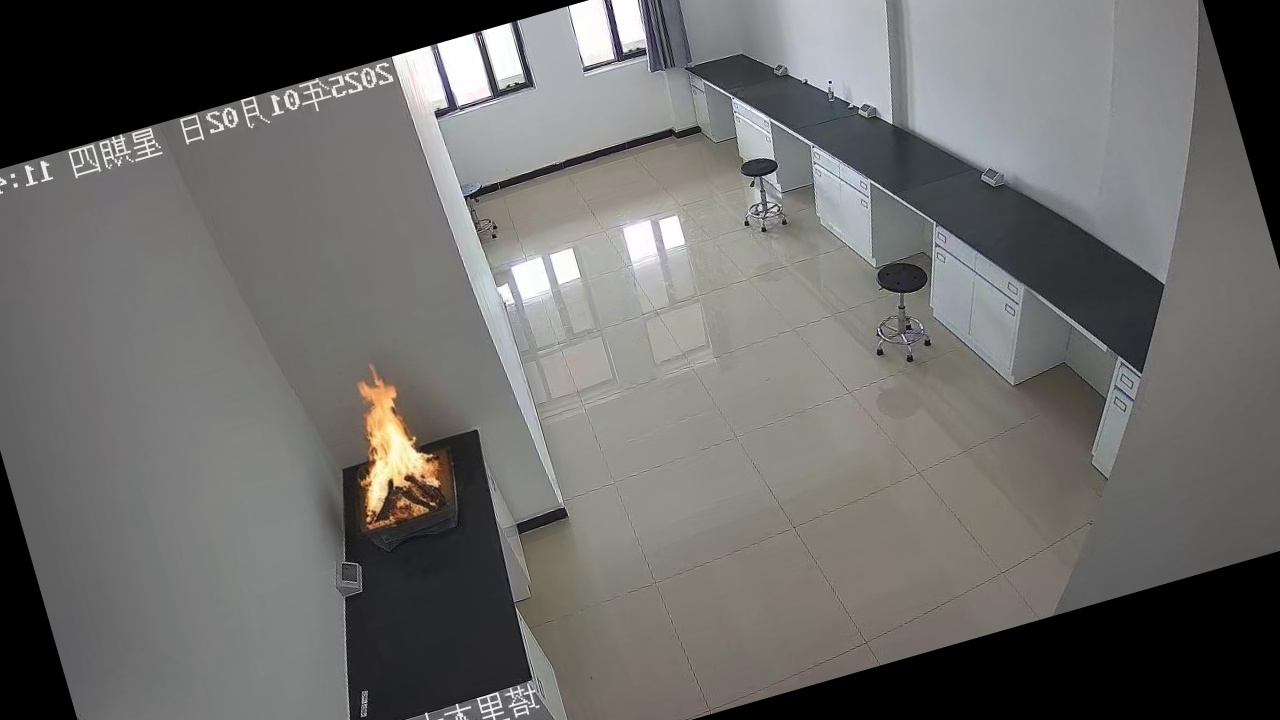fire: (280, 340, 481, 567)
